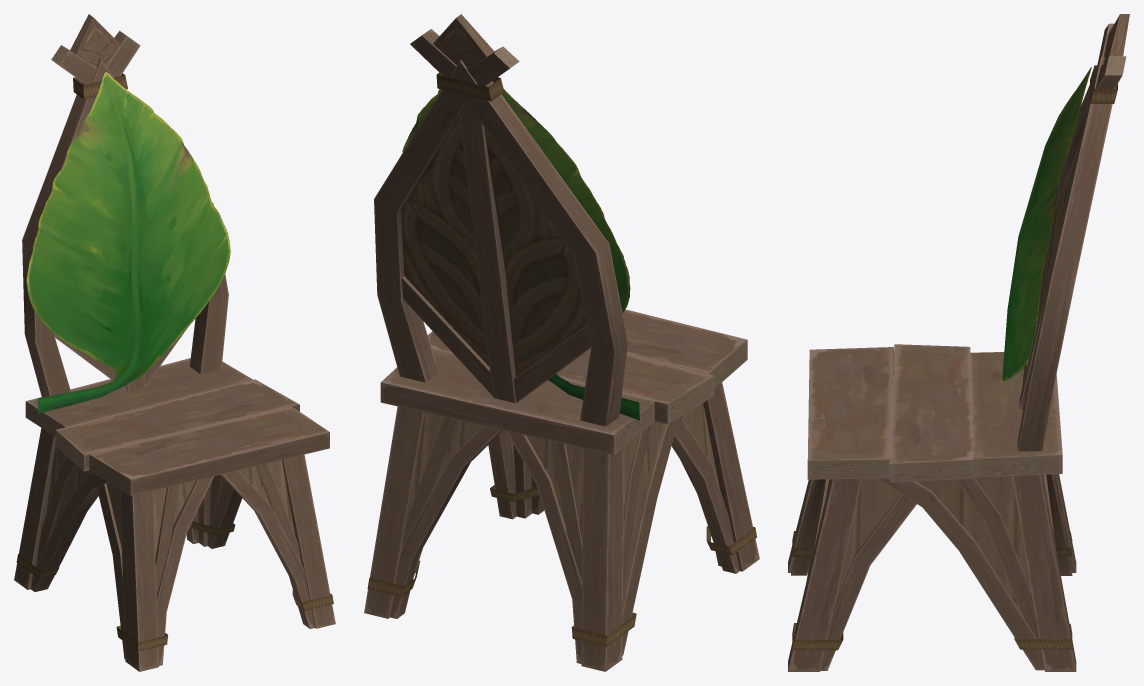
The model's file is Homeworld_Interior_Xm_Chair_Prop_Xlyyizi_01_Vo.fbx.
3 views of the same model, side by side, from view 1: azimuth 30°, elevation 25°; view 2: azimuth 150°, elevation 25°; view 3: azimuth 270°, elevation 25° (orthographic). The views are drawn at different scales.
Parts seen in each view (by area): view 1: Area_Xm_Prop_DCL_Chair_01_Lod0; view 2: Area_Xm_Prop_DCL_Chair_01_Lod0; view 3: Area_Xm_Prop_DCL_Chair_01_Lod0.
Boxes of the visible parts, x1,y1,x2,y2 form: Area_Xm_Prop_DCL_Chair_01_Lod0: (14, 14, 335, 671); Area_Xm_Prop_DCL_Chair_01_Lod0: (364, 14, 759, 671); Area_Xm_Prop_DCL_Chair_01_Lod0: (788, 14, 1129, 671).
Bounding box in the file's own units: 0.6069 × 1.42 × 0.7286.
